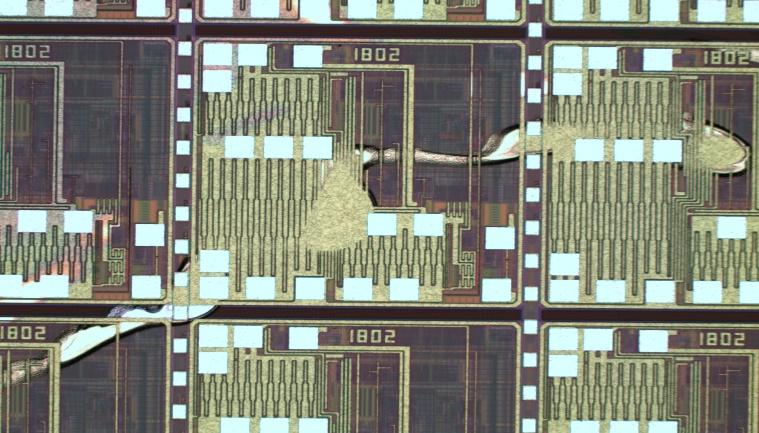COATING BAD: (1, 106, 755, 393)
